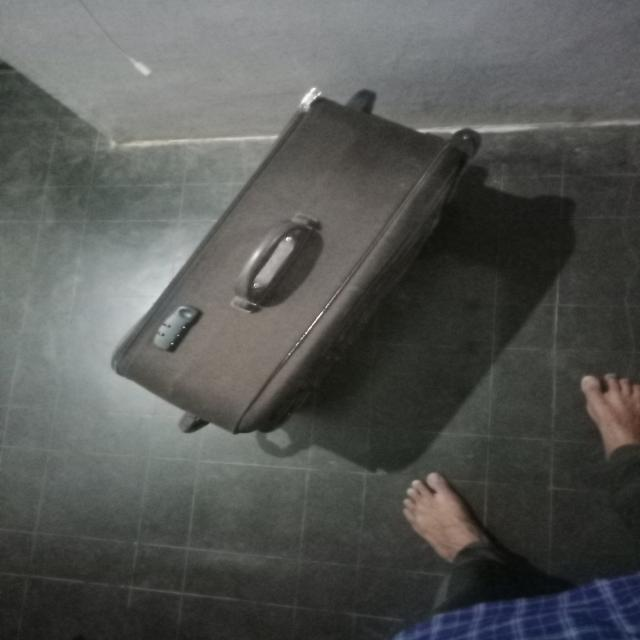suitcaserotation: (105, 84, 487, 437)
